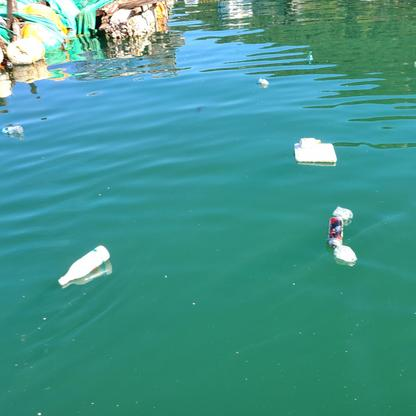can: (328, 217, 343, 247)
foam: (295, 137, 338, 164)
plastic bottle: (58, 245, 110, 287)
